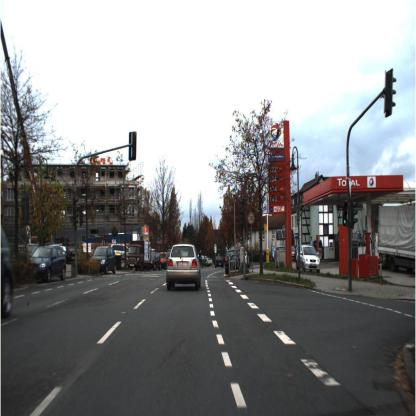prohibitory: (245, 208, 256, 225)
